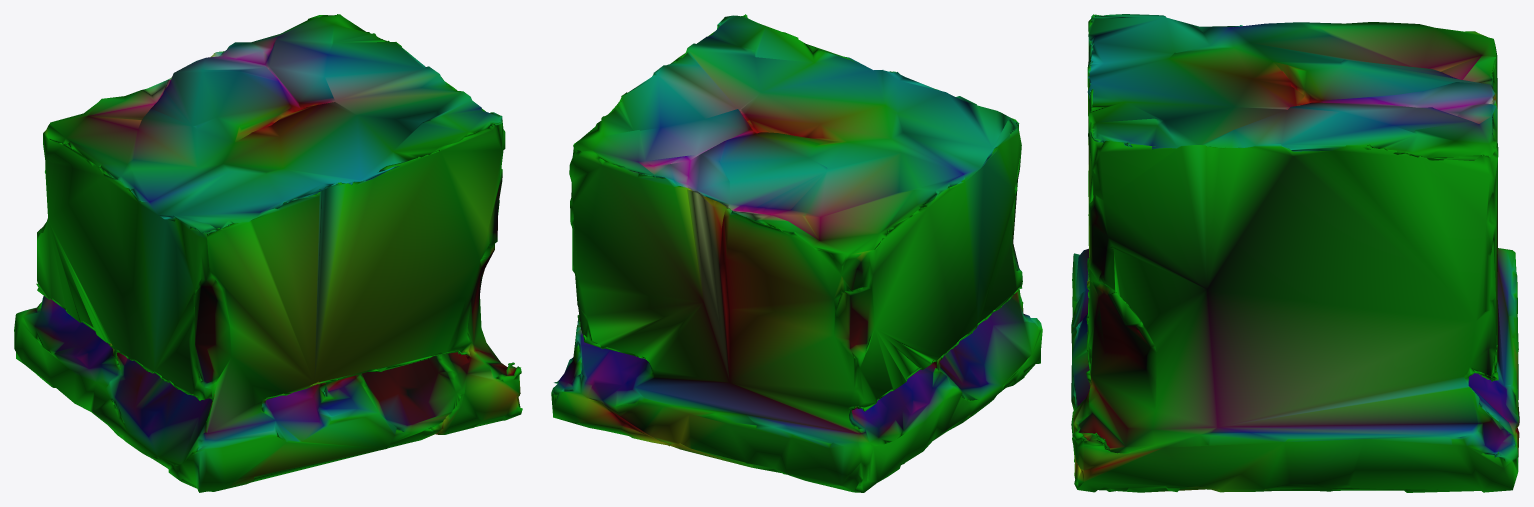
Rendered from SM_Ruin_A_L2.glb.
3 views of the same model, side by side, from view 1: azimuth 30°, elevation 25°; view 2: azimuth 150°, elevation 25°; view 3: azimuth 270°, elevation 25° (orthographic). The views are drawn at different scales.
Parts seen in each view (by area): view 1: SM_Ruin_A; view 2: SM_Ruin_A; view 3: SM_Ruin_A.
Part boxes in pixels (left/top/right/bottom): SM_Ruin_A: left=14, top=14, right=522, bottom=492; SM_Ruin_A: left=551, top=14, right=1042, bottom=492; SM_Ruin_A: left=1071, top=14, right=1519, bottom=492.
Size of the model in its own units: 1.92 by 1.65 by 1.9.
